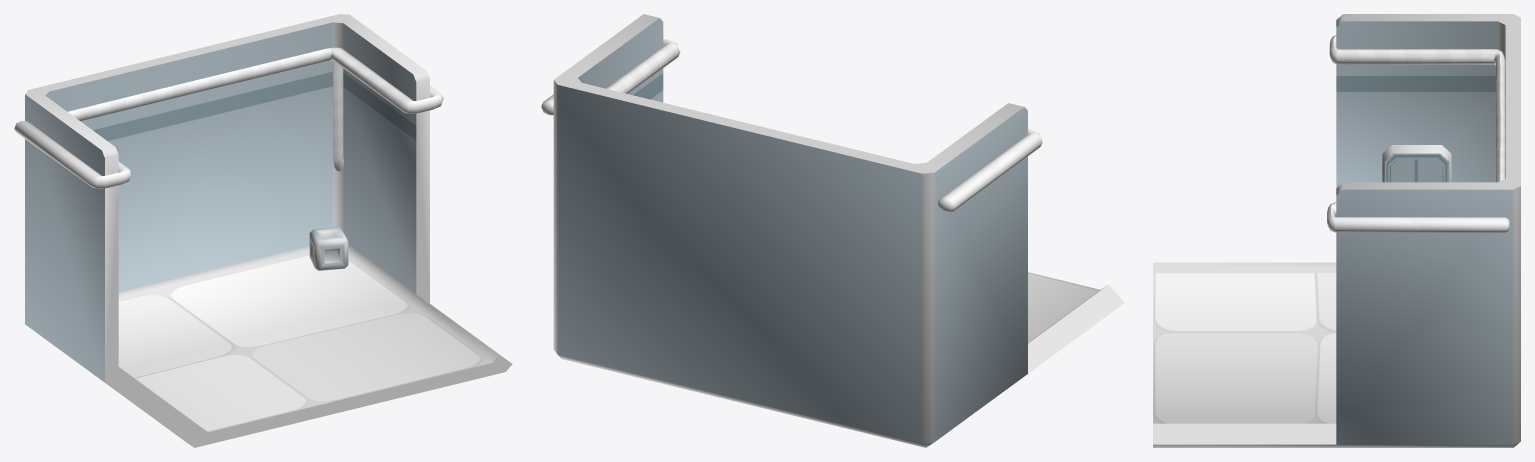
Rendered from Laboratory.fbx.
The picture shows the model from 3 angles, left to right: view 1: azimuth 30°, elevation 25°; view 2: azimuth 150°, elevation 25°; view 3: azimuth 270°, elevation 25°; orthographic projection. The views are drawn at different scales.
Parts seen in each view (by area): view 1: Laboratory; view 2: Laboratory; view 3: Laboratory.
Boxes of the visible parts, <box> form: Laboratory: <box>14,14,512,447</box>; Laboratory: <box>541,14,1124,447</box>; Laboratory: <box>1153,14,1520,447</box>.
Bounding box in the file's own units: 1187 × 759 × 966.
